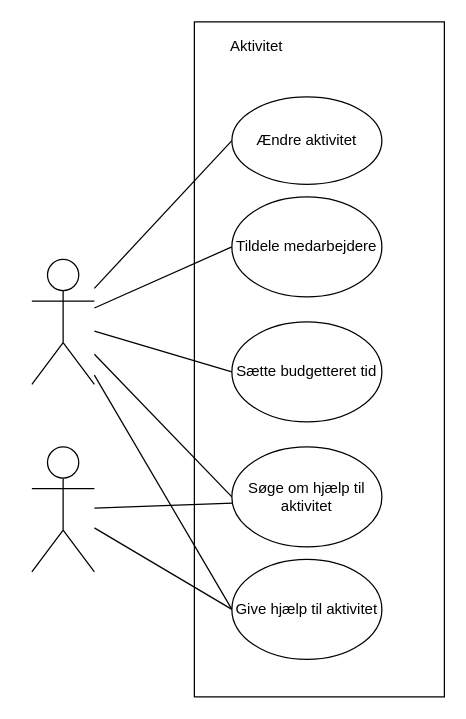
Some shapes in this 466 by 719 pixel diagram are drawn without their labels. The centre of each missing label's shape, as x and y in pixels:
Medarbejder: the point at 62,509
Projektleder: the point at 62,321
